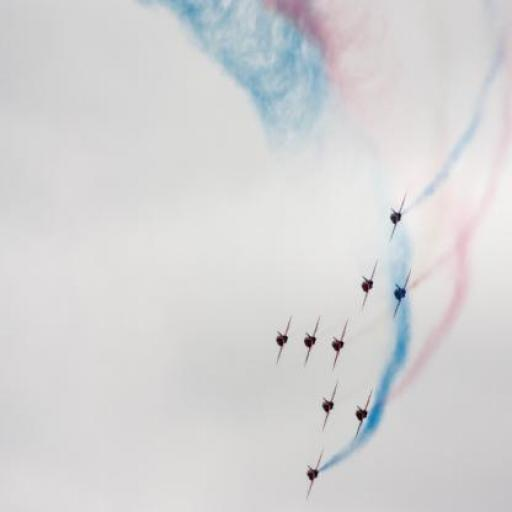aircraft: (384, 191, 410, 247), (272, 309, 294, 370), (390, 266, 414, 321), (302, 444, 324, 500), (303, 310, 322, 372), (353, 386, 374, 440), (359, 258, 379, 312), (332, 317, 350, 373), (320, 379, 338, 435)
